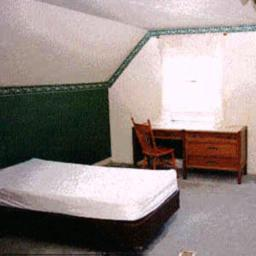Cama: (8, 150, 180, 248)
